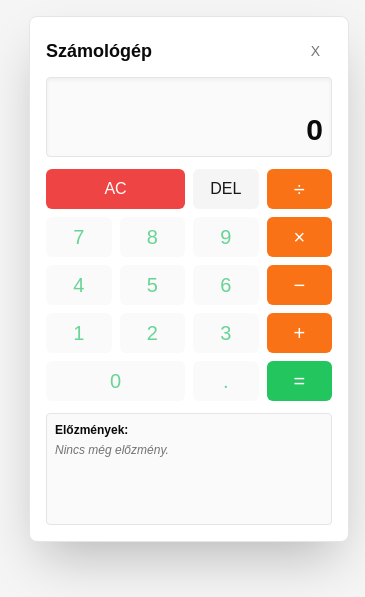
Test case: Calculator Component › handles number clicks and updates display
What coordinates should you click on to do the following:
click the button "1"
I would click on:
 (79, 333)
Its box is [46,313,112,353].
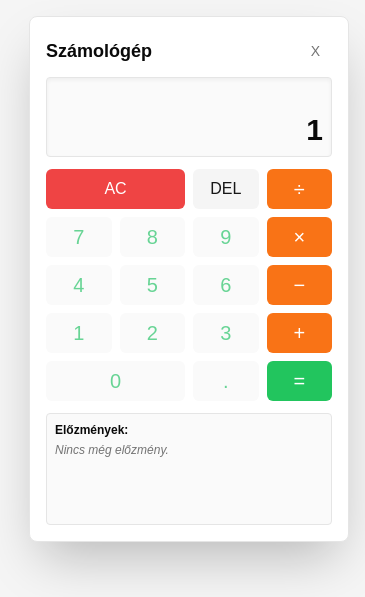
What coordinates should you click on to do the following:
click the button "2"
I would click on:
 (152, 333)
Its box is [120,313,185,353].
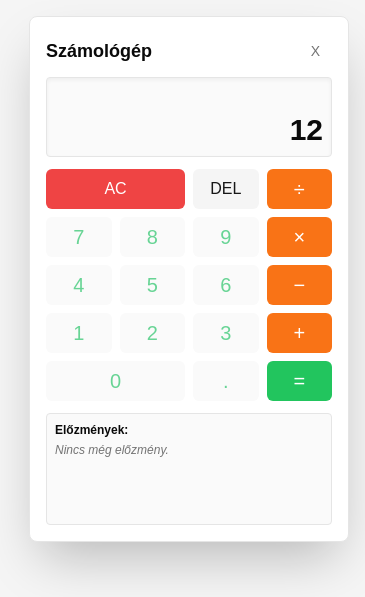
What coordinates should you click on to do the following:
click the button "3"
I would click on:
 (226, 333)
Its box is [193,313,258,353].
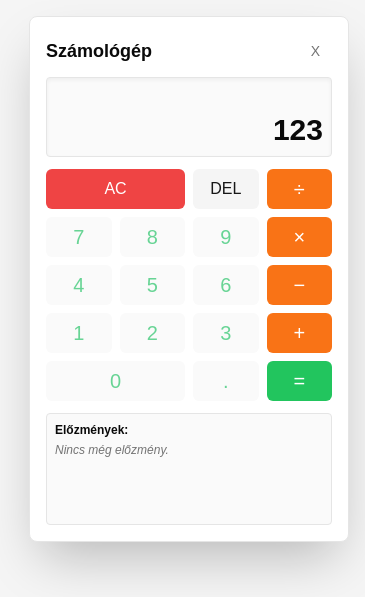
Result: the text with class "font-bold" reads "123" at [273,113,323,146]
